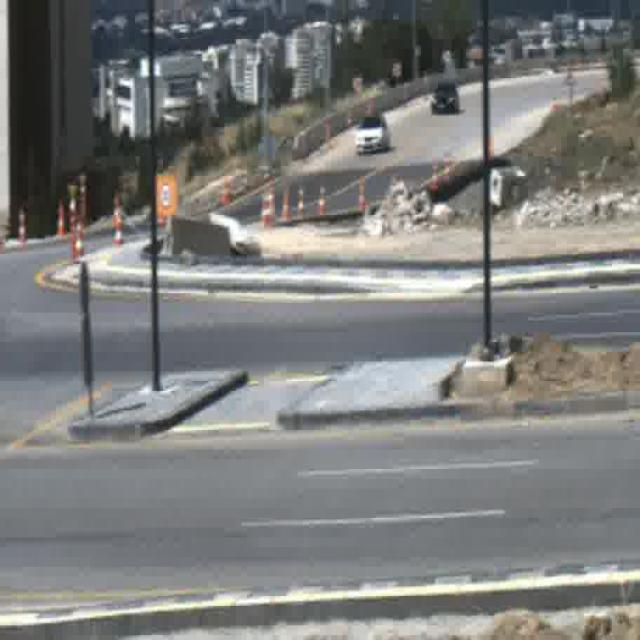Car: (355, 115, 387, 155), (432, 82, 459, 116)
